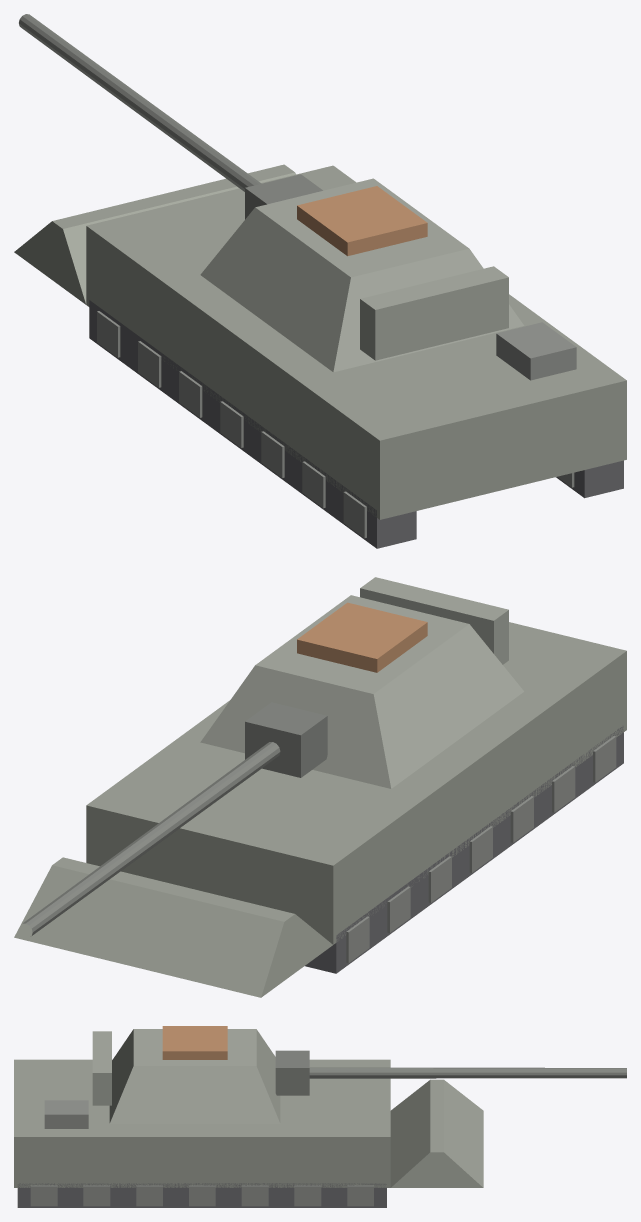
The model's file is mbt_e4_de_LOD0.glb.
3 views of the same model, one above another, from view 1: azimuth 30°, elevation 25°; view 2: azimuth 150°, elevation 25°; view 3: azimuth 270°, elevation 25° (orthographic). The views are drawn at different scales.
Parts seen in each view (by area): view 1: mbt_e4_de_LOD0_body; view 2: mbt_e4_de_LOD0_body; view 3: mbt_e4_de_LOD0_body.
Boxes of the visible parts, x1=… form: mbt_e4_de_LOD0_body: x1=14, y1=14, x2=626, y2=548; mbt_e4_de_LOD0_body: x1=14, y1=577, x2=626, y2=997; mbt_e4_de_LOD0_body: x1=14, y1=1026, x2=626, y2=1207.
Bounding box in the file's own units: 3.82 × 2.95 × 12.56.
